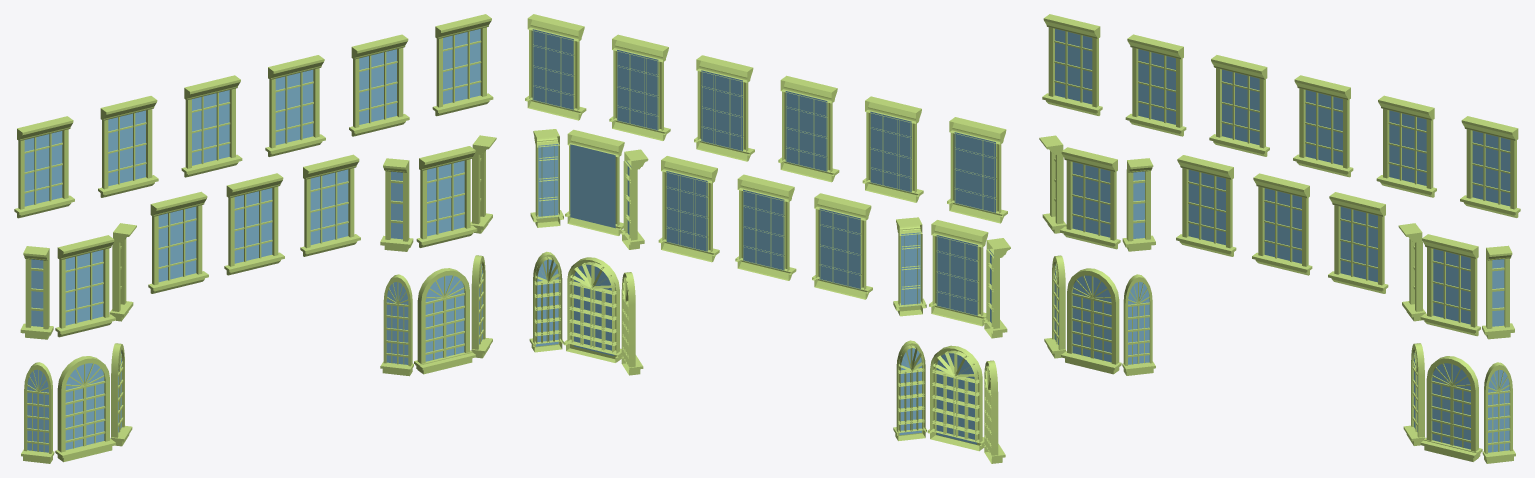
The model's file is Empty_Torben_Windows.fbx.
The picture shows the model from 3 angles, left to right: view 1: azimuth 30°, elevation 25°; view 2: azimuth 150°, elevation 25°; view 3: azimuth 330°, elevation 25°; orthographic projection.
Visible parts, largest first — view 1: Windows_04.005, Windows_04.018, Windows_03.003, Windows_02.015, Windows_02.012, Windows_02.009, Windows_02.016, Windows_02.010, Windows_02.013, Windows_02.005, Windows_03, Windows_02.011 (+9 smaller); view 2: Windows_02.016, Windows_02.011, Windows_02.005, Windows_03.003, Windows_02.010, Windows_02.015, Windows_02.013, Windows_02.009, Windows_02.014, Windows_02.012, Windows_04.005, Windows_04.018 (+11 smaller); view 3: Windows_04.005, Windows_04.018, Windows_02.013, Windows_02.005, Windows_03, Windows_02.009, Windows_02.012, Windows_02.011, Windows_03.003, Windows_02.014, Windows_02.015, Windows_02.016 (+9 smaller).
Part boxes in pixels (x1=…): Windows_04.005: x1=55, y1=356, x2=115, y2=462; Windows_04.018: x1=415, y1=268, x2=475, y2=374; Windows_03.003: x1=55, y1=235, x2=115, y2=337; Windows_02.015: x1=224, y1=173, x2=284, y2=275; Windows_02.012: x1=349, y1=34, x2=409, y2=136; Windows_02.009: x1=98, y1=96, x2=158, y2=197; Windows_02.016: x1=148, y1=191, x2=208, y2=293; Windows_02.010: x1=181, y1=75, x2=242, y2=177; Windows_02.013: x1=432, y1=14, x2=493, y2=116; Windows_02.005: x1=14, y1=116, x2=74, y2=218; Windows_03: x1=416, y1=146, x2=477, y2=247; Windows_02.011: x1=265, y1=55, x2=325, y2=156; Windows_02.016: x1=812, y1=193, x2=872, y2=299; Windows_02.011: x1=694, y1=55, x2=754, y2=161; Windows_02.005: x1=947, y1=117, x2=1007, y2=223; Windows_03.003: x1=929, y1=220, x2=988, y2=326; Windows_02.010: x1=778, y1=75, x2=839, y2=182; Windows_02.015: x1=735, y1=174, x2=796, y2=280; Windows_02.013: x1=525, y1=14, x2=586, y2=120; Windows_02.009: x1=862, y1=96, x2=923, y2=202; Windows_02.014: x1=658, y1=156, x2=719, y2=262; Windows_02.012: x1=609, y1=34, x2=670, y2=140; Windows_04.005: x1=927, y1=345, x2=984, y2=451; Windows_04.018: x1=567, y1=257, x2=621, y2=362; Windows_04.005: x1=1061, y1=268, x2=1121, y2=374; Windows_04.018: x1=1420, y1=356, x2=1481, y2=461; Windows_02.013: x1=1460, y1=116, x2=1520, y2=217; Windows_02.005: x1=1042, y1=14, x2=1102, y2=115; Windows_03: x1=1420, y1=234, x2=1480, y2=336; Windows_02.009: x1=1125, y1=34, x2=1186, y2=136; Windows_02.012: x1=1376, y1=95, x2=1436, y2=197; Windows_02.011: x1=1293, y1=75, x2=1353, y2=177; Windows_03.003: x1=1060, y1=147, x2=1120, y2=249; Windows_02.014: x1=1328, y1=192, x2=1388, y2=293; Windows_02.015: x1=1252, y1=173, x2=1312, y2=275; Windows_02.016: x1=1176, y1=155, x2=1236, y2=256.
Size of the model in its own units: 7.52 by 5 by 0.4989.
